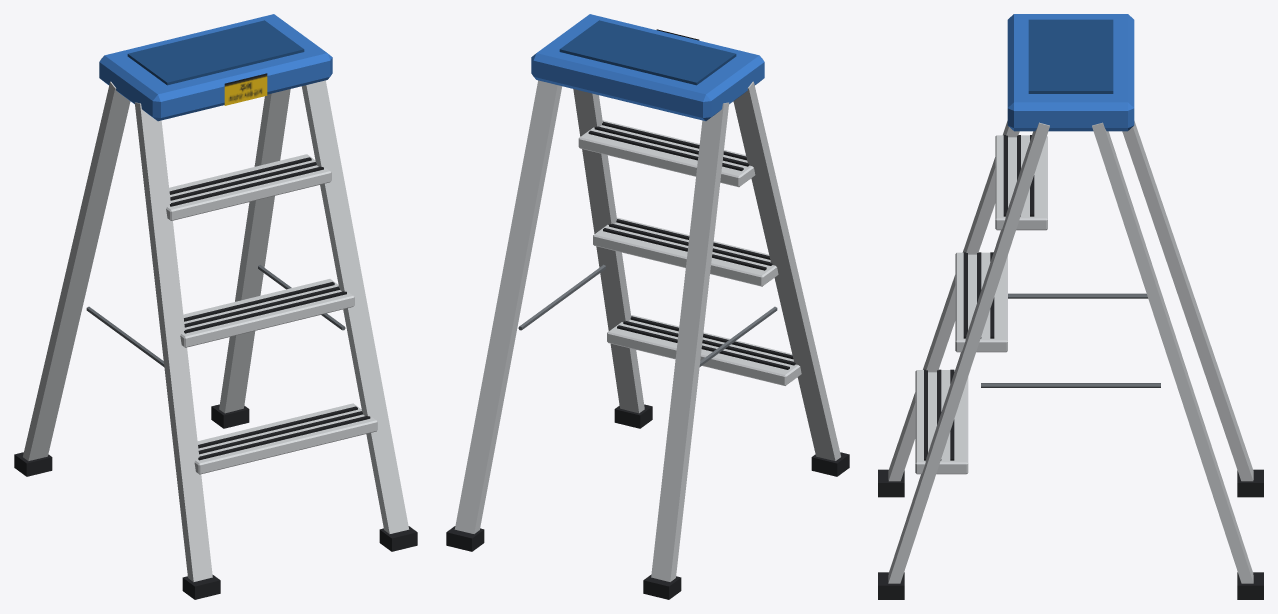
The model's file is SC_Fix_Step_Ladder.gltf.
3 renders of one model, left to right at view 1: azimuth 30°, elevation 25°; view 2: azimuth 150°, elevation 25°; view 3: azimuth 270°, elevation 25°, orthographic. The views are drawn at different scales.
Parts seen in each view (by area): view 1: SC_Fix_Step_Ladder; view 2: SC_Fix_Step_Ladder; view 3: SC_Fix_Step_Ladder.
Boxes of the visible parts, x1,y1,x2,y2 form: SC_Fix_Step_Ladder: (14,14,417,599); SC_Fix_Step_Ladder: (446,14,849,599); SC_Fix_Step_Ladder: (878,14,1263,599).
Bounding box in the file's own units: 0.52 × 1.02 × 0.73.
2 materials, 2 textured.
